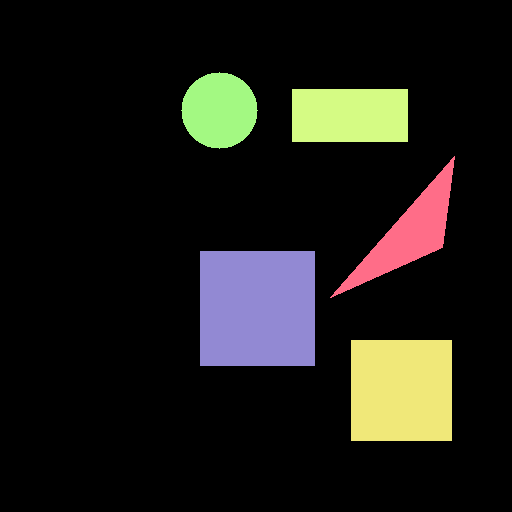circle: (181, 72, 257, 148)
rectangle: (292, 89, 407, 141)
square: (200, 251, 314, 365), (351, 340, 451, 440)
triangle: (330, 156, 454, 297)
